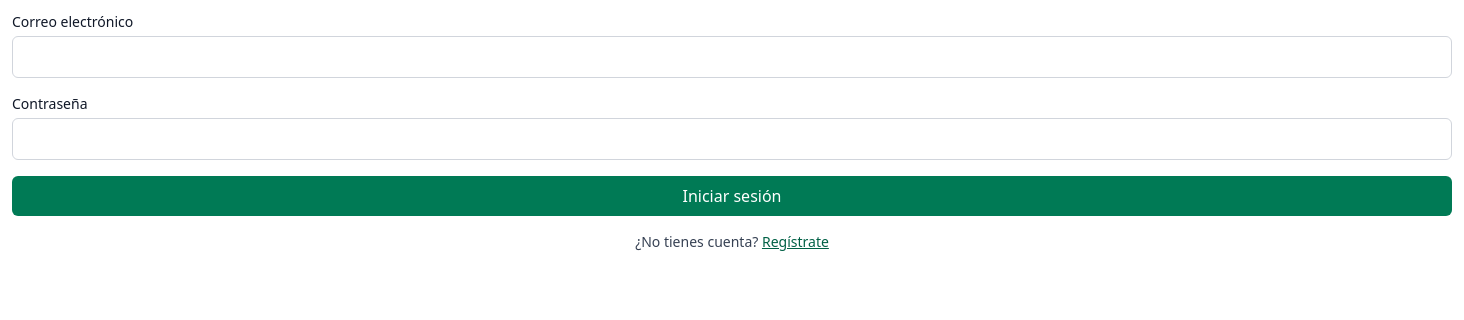
Test case: LoginForm › envía next oculto y muestra el error genérico conservando el correo
This screenshot has width=1464, height=320.
Type "vecino@example.com" into the field labelled "Correo electrónico" at {"x": 732, "y": 57}, box [12,36,1452,78]
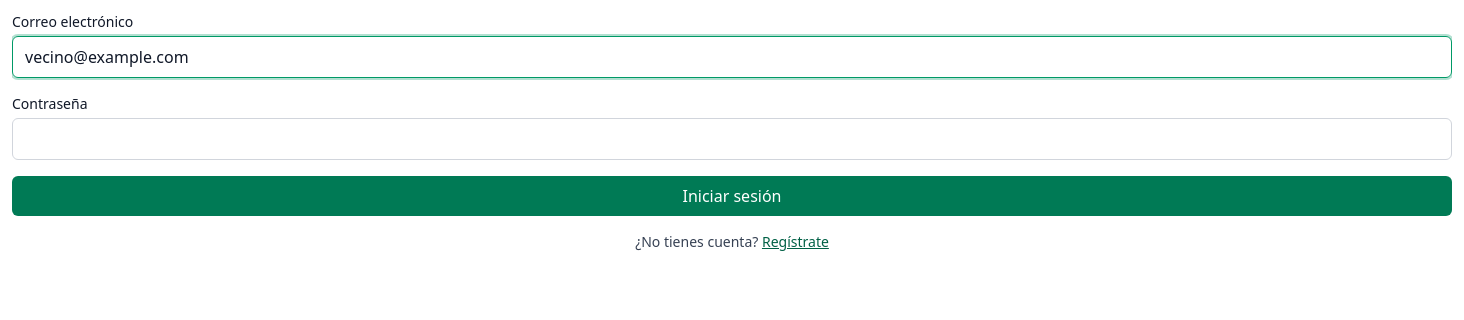
Type "incorrecta" into the password field labelled "Contraseña" at {"x": 732, "y": 139}, box [12,118,1452,160]
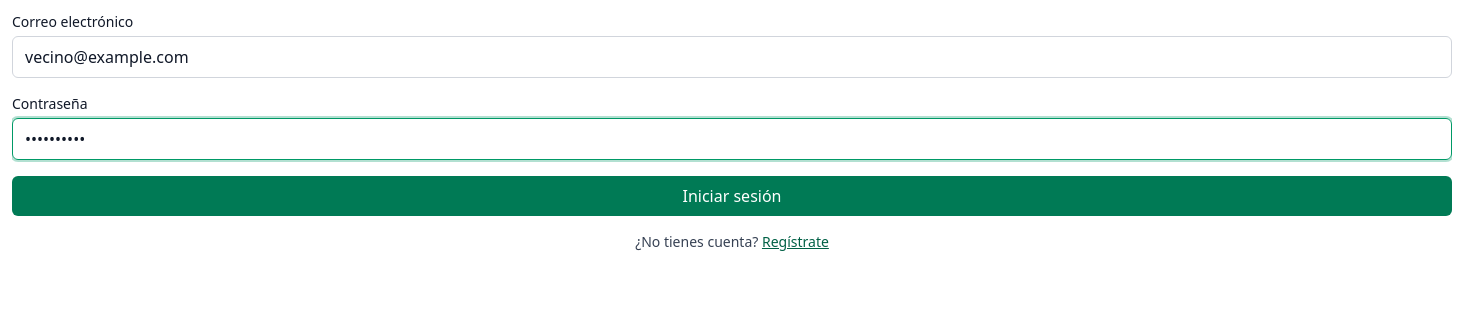
Click the button "Iniciar sesión" at {"x": 732, "y": 196}, box [12,176,1452,216]
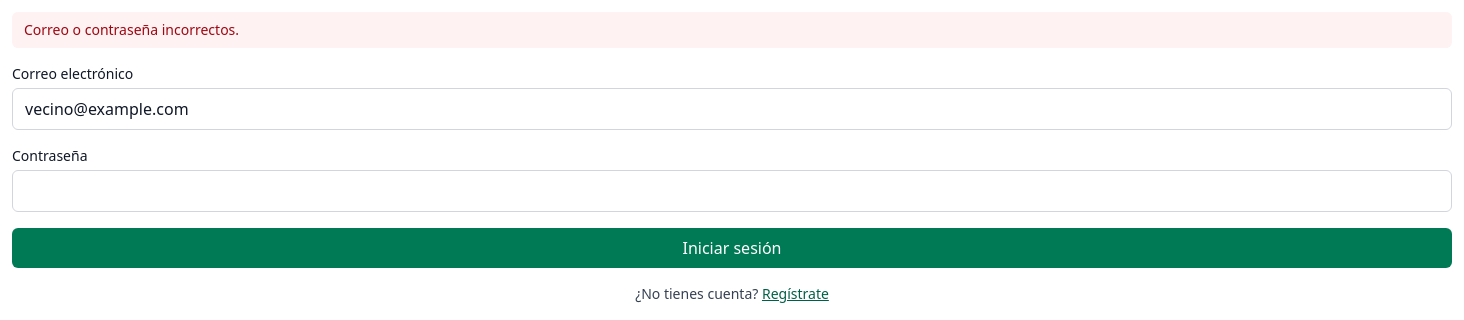
Expected: the text "Correo o contraseña incorrectos." is shown, [12,12,1452,48]
Expected: the password field labelled "Contraseña" is empty, [12,170,1452,212]
